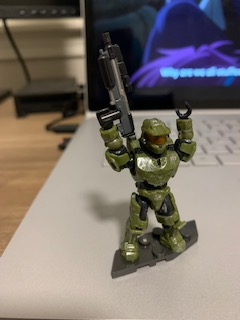chief: (94, 100, 199, 263)
rifle: (95, 32, 136, 139)
spartan: (92, 98, 197, 261)
up: (93, 98, 198, 190)
